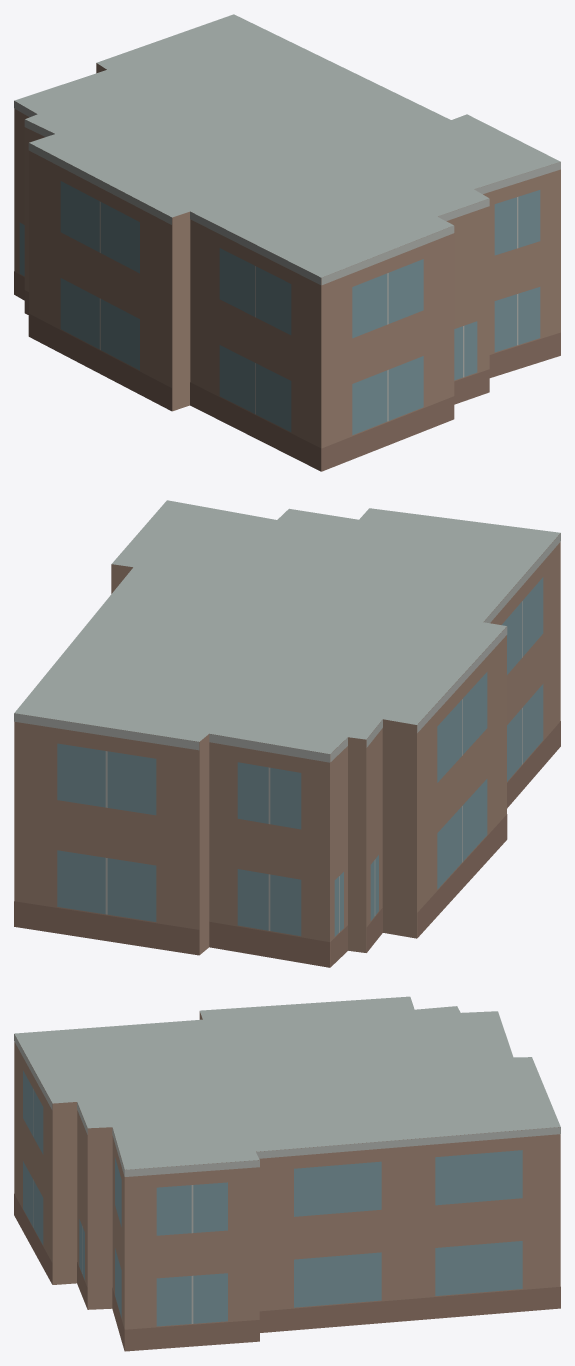
Rendered from survey-upis-32664362.glb.
3 views of the same model, one above another, from view 1: azimuth 30°, elevation 25°; view 2: azimuth 150°, elevation 25°; view 3: azimuth 270°, elevation 25° (orthographic). The views are drawn at different scales.
Visible parts, largest first — view 1: survey-upis-32664362.tmp; view 2: survey-upis-32664362.tmp; view 3: survey-upis-32664362.tmp.
Boxes of the visible parts, bbox=[...] form: survey-upis-32664362.tmp: bbox=[14, 14, 560, 471]; survey-upis-32664362.tmp: bbox=[14, 500, 560, 967]; survey-upis-32664362.tmp: bbox=[14, 996, 560, 1351].
Size of the model in its own units: 12.5 by 6.1 by 16.66.
